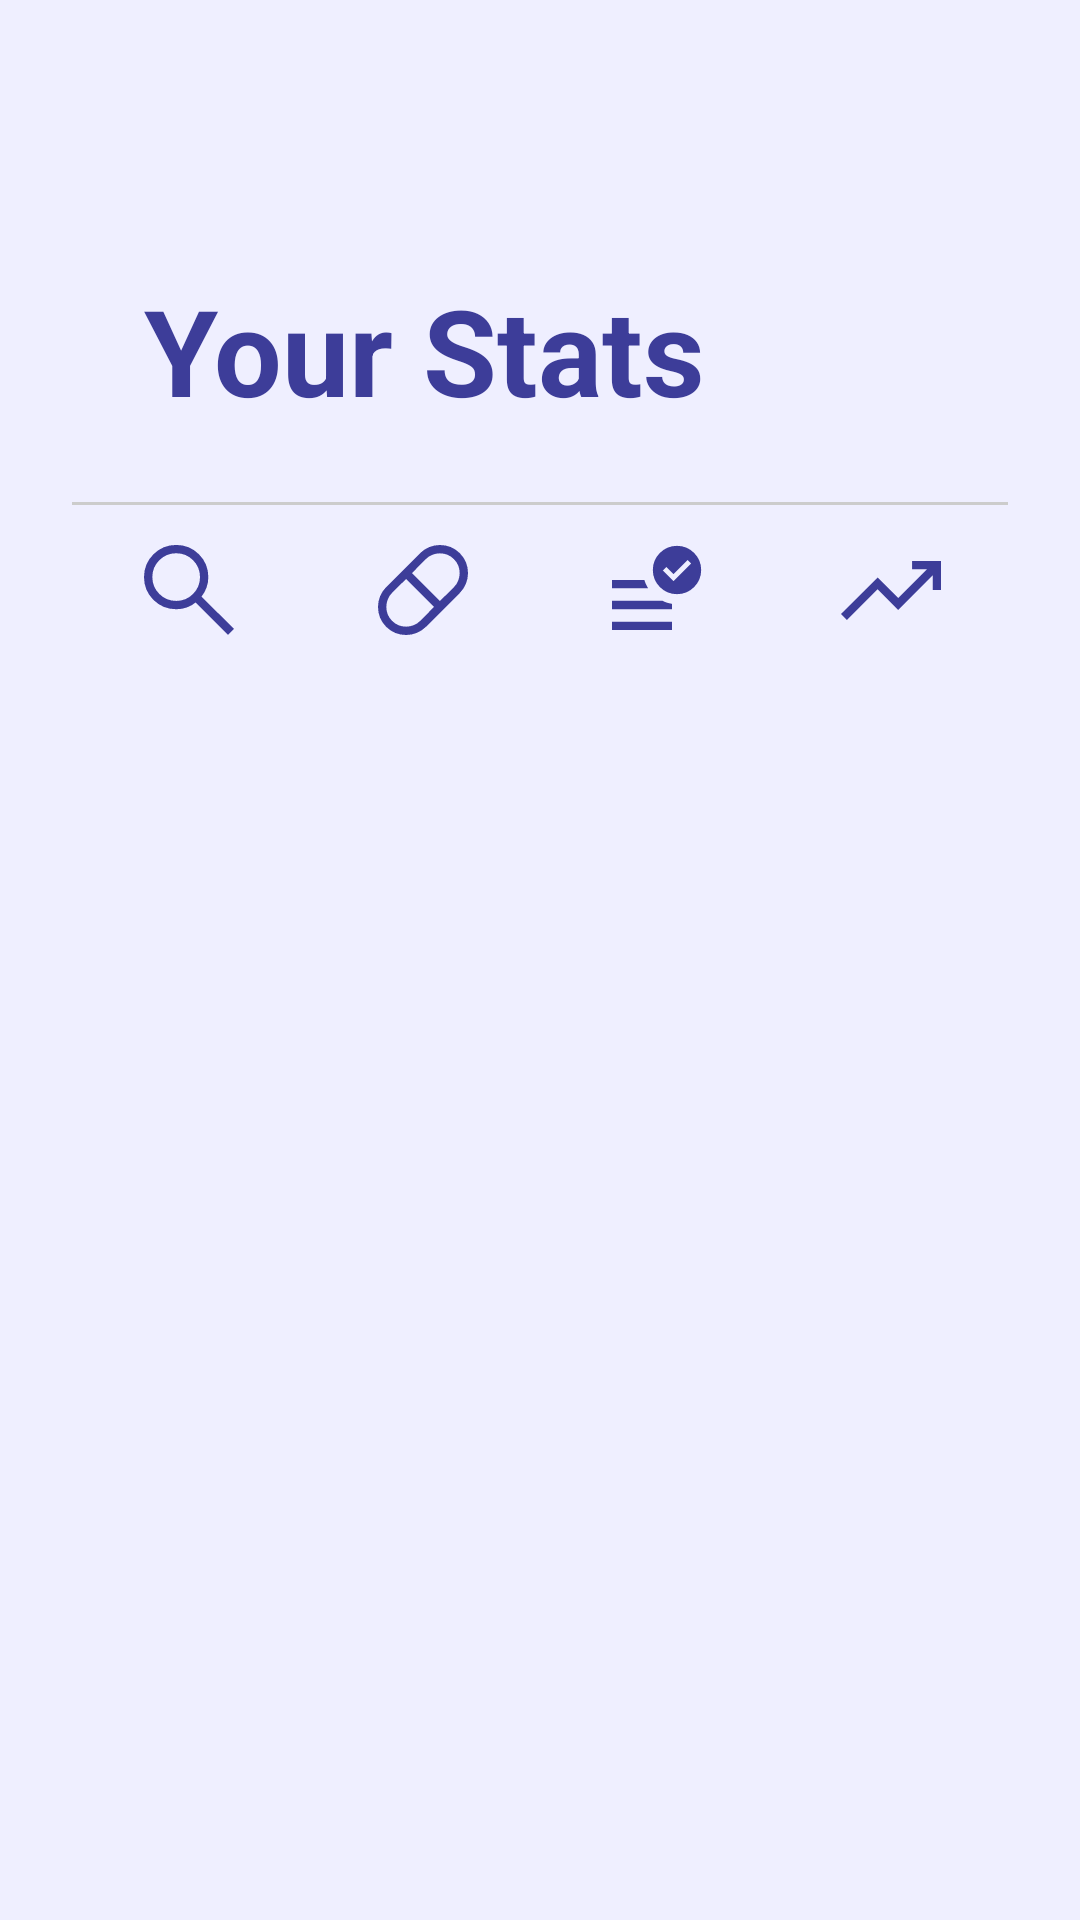

Where icons sit on this 1080w x 1920h app screen, as (x1, y1, x2, y2):
Logs: (612, 546, 701, 630)
Meds: (378, 545, 468, 635)
Search: (144, 545, 234, 635)
